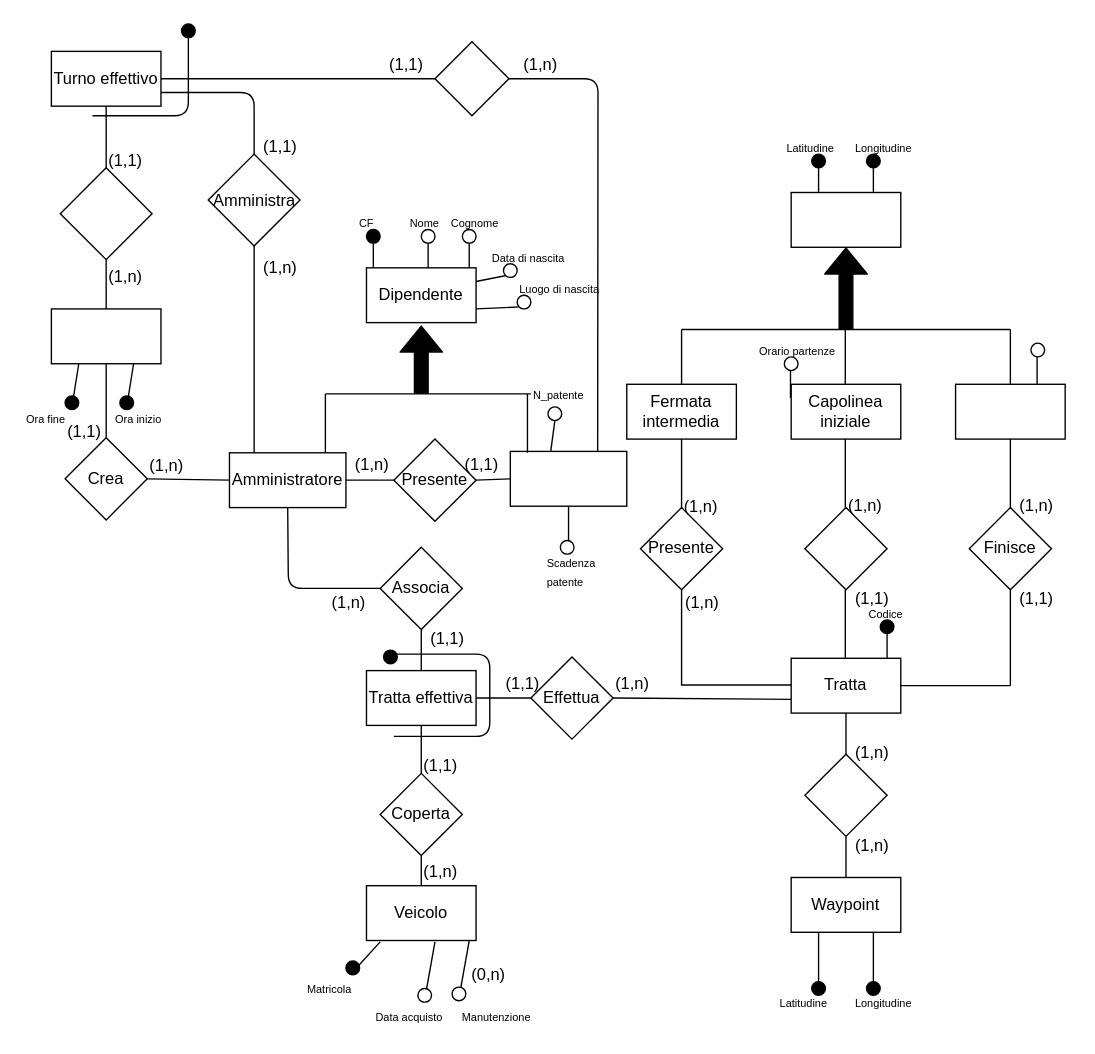
Some shapes in this 1095 by 1054 pixel diagram are drawn without their labels. The shapes that lost their labels are listed below. From the top down, each one's centre as x and y in pixels, then its label:
the point at 471,78: Lavora
the point at 105,213: Composto
the point at 845,219: Fermata
the point at 105,336: Turno
the point at 1009,411: Capolinea finale
the point at 568,478: Conducente
the point at 845,548: Inizia
the point at 845,794: Formata
